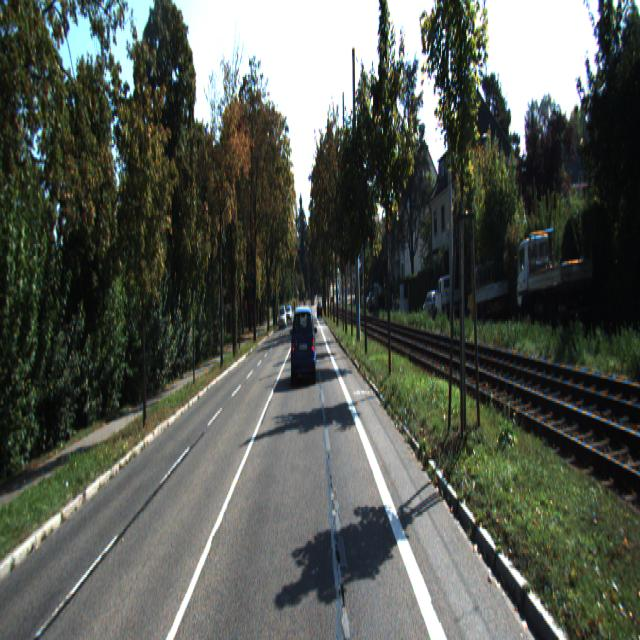Car: (290, 304, 316, 388), (424, 290, 443, 320)
DontCare: (355, 276, 383, 313), (276, 295, 290, 333)
Truck: (516, 218, 594, 328)
Van: (467, 260, 510, 326), (435, 273, 461, 318)
